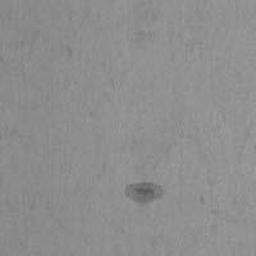Oil spot: (114, 0, 172, 59), (123, 179, 169, 209)
